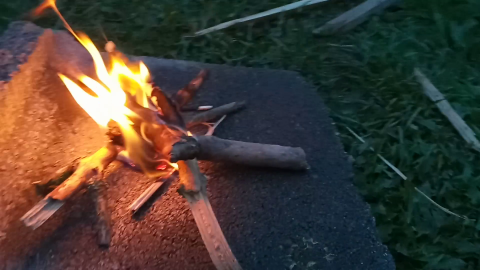fire: (28, 1, 197, 172)
